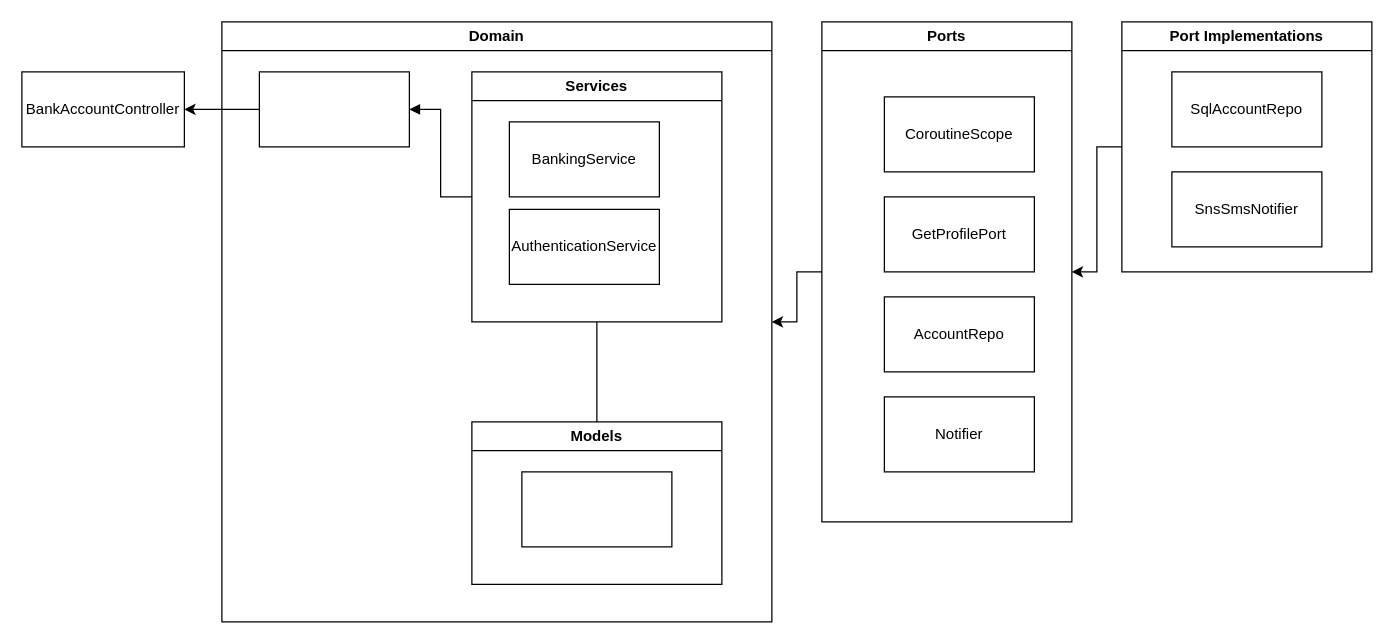
This 1394x644 diagram has some shape labels left out. Each missing label, with the centre of its shape:
"Account" belongs at point 596,509.
"WithdrawalUseCase" belongs at point 333,109.
